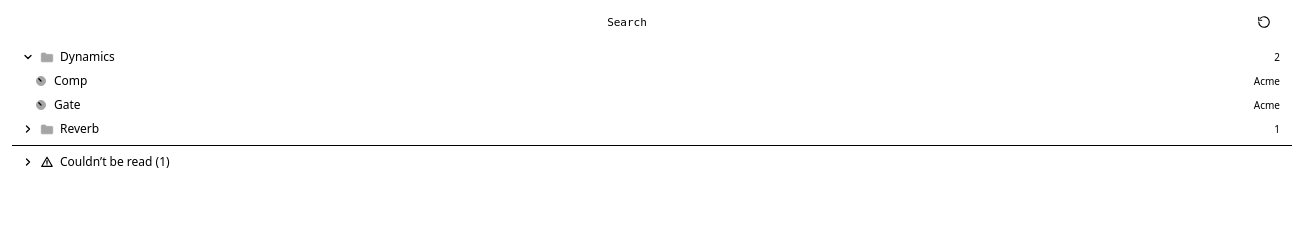
the Effects page › lists what couldn’t be read, closed
The width and height of the screenshot is (1304, 226).
Expected: the text "timed out" is not shown
Click the button "Couldn’t be read (1)" at (110, 162), box [12,150,1292,174]
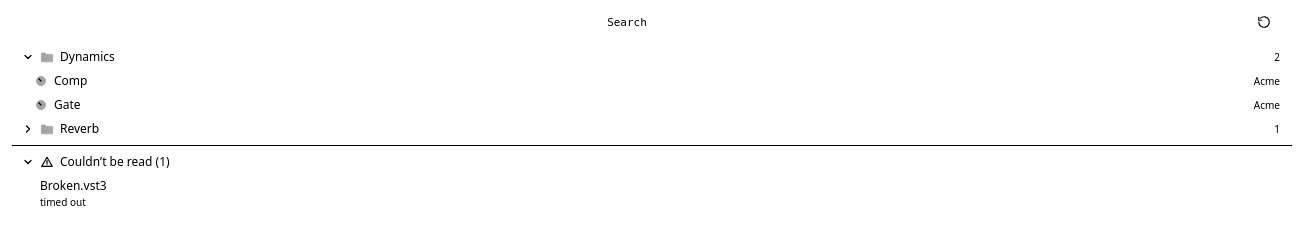
Expected: the text "Broken.vst3" is shown, [40,177,107,194]
Expected: the text "timed out" is shown, [40,195,86,209]
